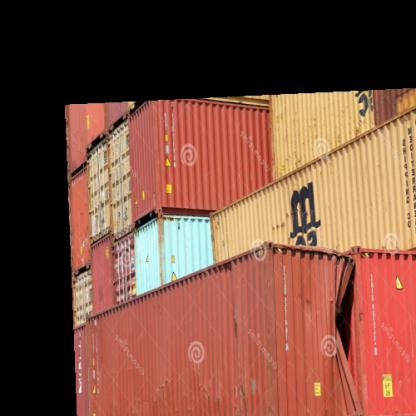Damage: (304, 254, 379, 367)
